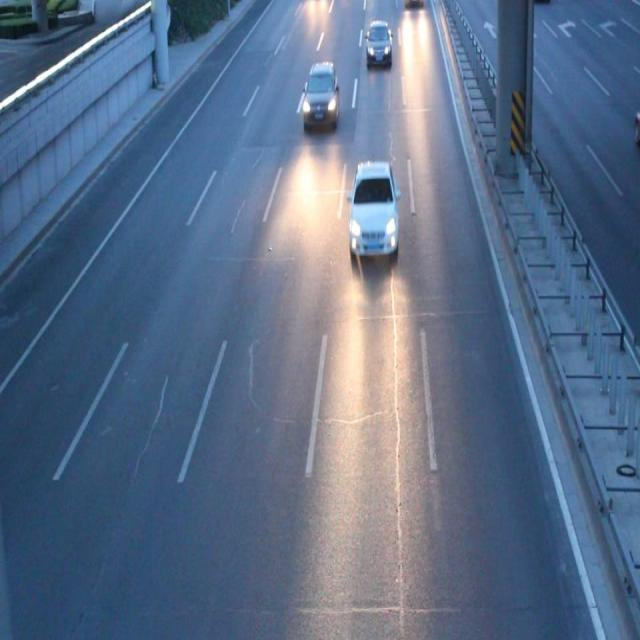car: (348, 162, 400, 258), (301, 62, 338, 126), (364, 20, 391, 64)
